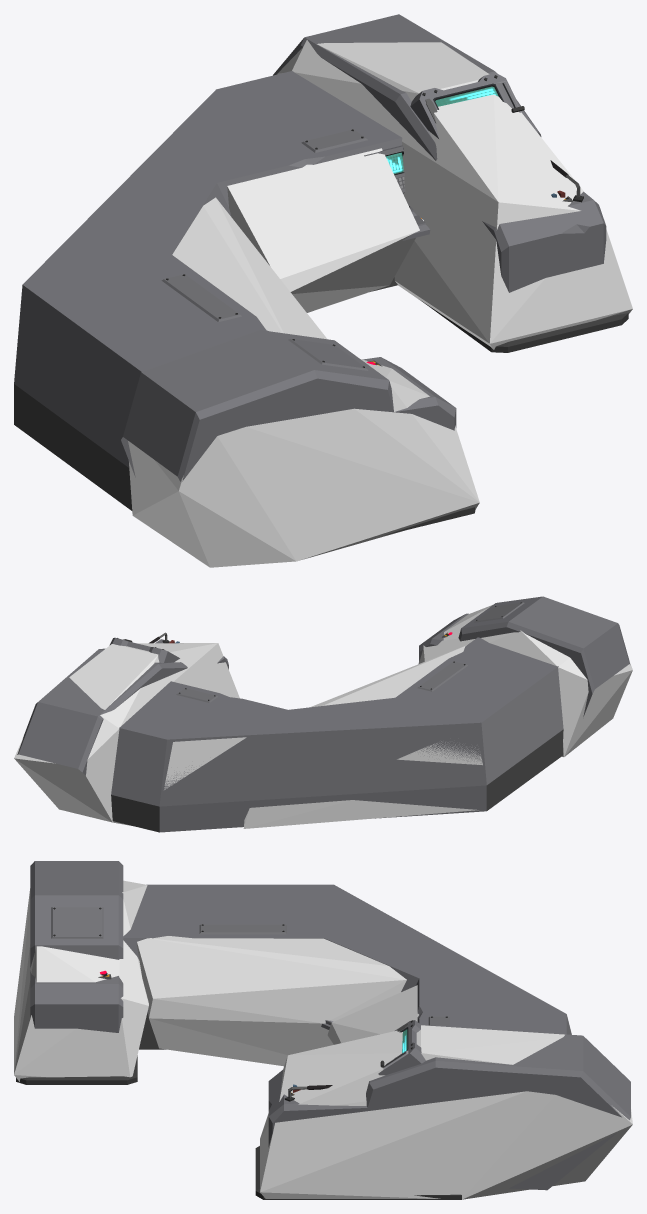
The model's file is SM_Bld_Bridge_Console_Corner_01.fbx.
The picture shows the model from 3 angles, top to bottom: view 1: azimuth 30°, elevation 25°; view 2: azimuth 150°, elevation 25°; view 3: azimuth 270°, elevation 25°; orthographic projection. The views are drawn at different scales.
Parts seen in each view (by area): view 1: SM_Bld_Bridge_Console_Corner_01_ConvexHulls, SM_Bld_Bridge_Console_Corner_01_LOD0; view 2: SM_Bld_Bridge_Console_Corner_01_LOD0, SM_Bld_Bridge_Console_Corner_01_ConvexHulls; view 3: SM_Bld_Bridge_Console_Corner_01_ConvexHulls, SM_Bld_Bridge_Console_Corner_01_LOD0.
Boxes of the visible parts, box(x1,y1,x2,y2) form: SM_Bld_Bridge_Console_Corner_01_ConvexHulls: box(128, 40, 632, 567); SM_Bld_Bridge_Console_Corner_01_LOD0: box(14, 14, 628, 535); SM_Bld_Bridge_Console_Corner_01_LOD0: box(17, 596, 630, 832); SM_Bld_Bridge_Console_Corner_01_ConvexHulls: box(14, 605, 632, 828); SM_Bld_Bridge_Console_Corner_01_ConvexHulls: box(14, 880, 632, 1199); SM_Bld_Bridge_Console_Corner_01_LOD0: box(16, 861, 630, 1199).
Bounding box in the file's own units: 669 × 579 × 169.
1 material, 1 textured.
